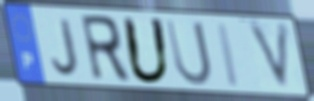I: (214, 19, 242, 90)
J: (50, 16, 81, 78)
R: (77, 13, 133, 85)
U: (120, 14, 173, 87), (163, 18, 214, 88)
V: (245, 20, 293, 95)
